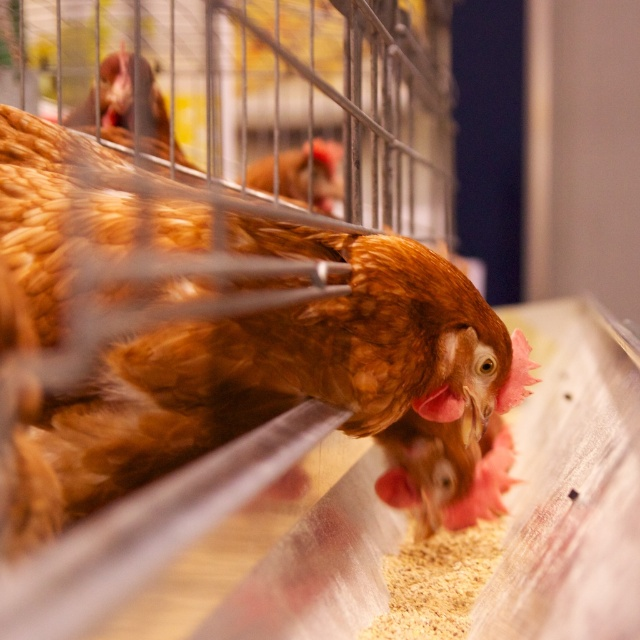Chicken: (0, 98, 537, 565)
